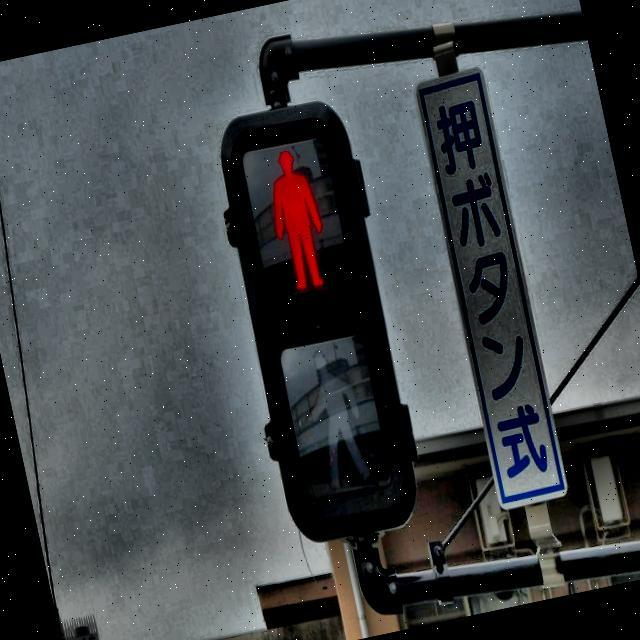red_light: (256, 140, 336, 298)
